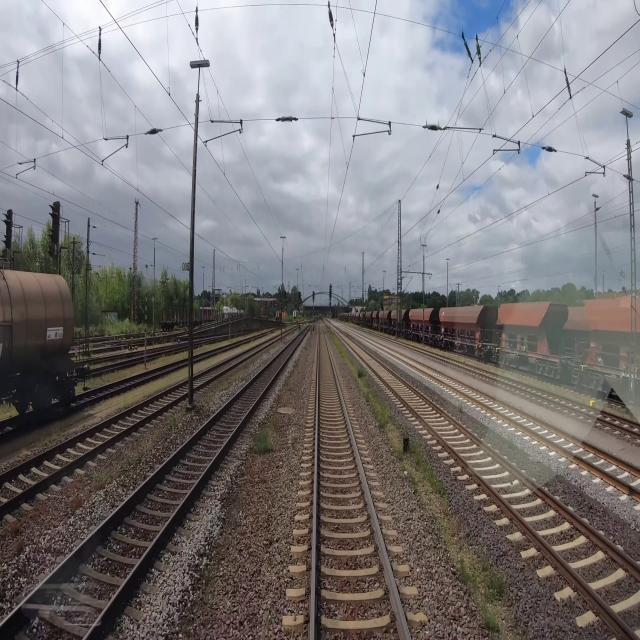Plant: (458, 549, 507, 632), (410, 439, 448, 510), (353, 366, 392, 430), (254, 425, 274, 455), (330, 333, 345, 359), (93, 471, 111, 488), (392, 443, 403, 456), (168, 415, 177, 429), (270, 415, 278, 429)
